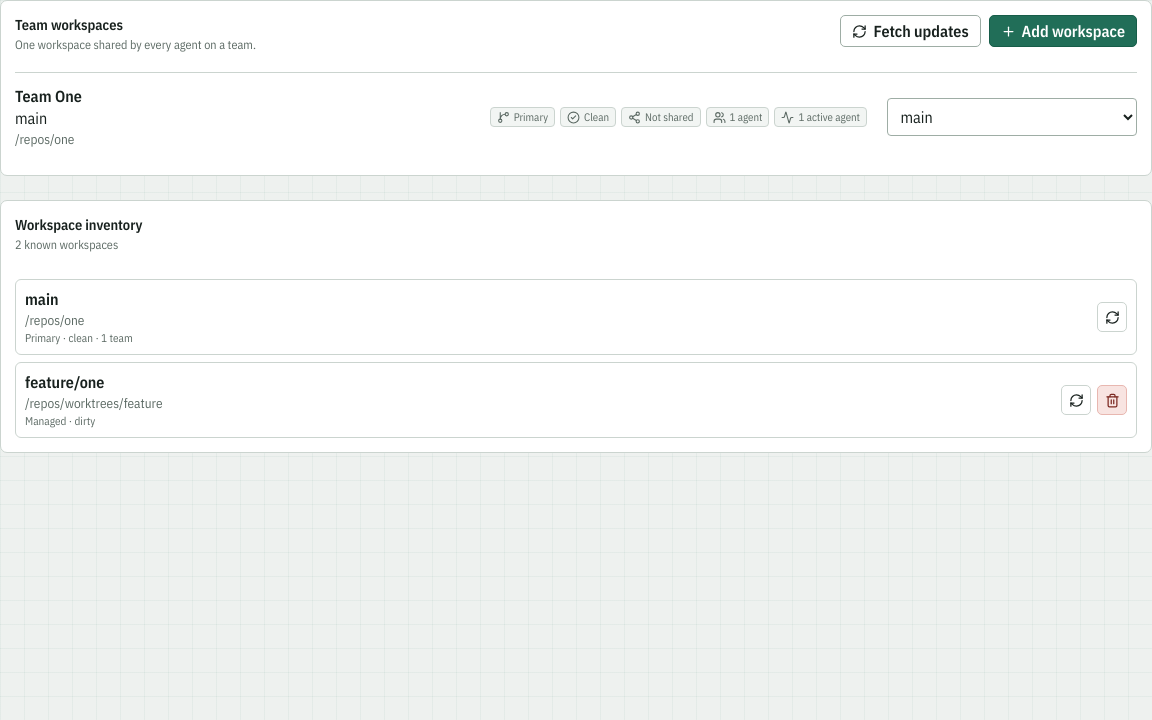
Test: CheckoutWorkspace › keeps a failed switch inside its impact dialog with the target intact
Select "feature/one" in the dropdown named "Workspace for Team One": (1012, 117) [888, 98, 1137, 136]
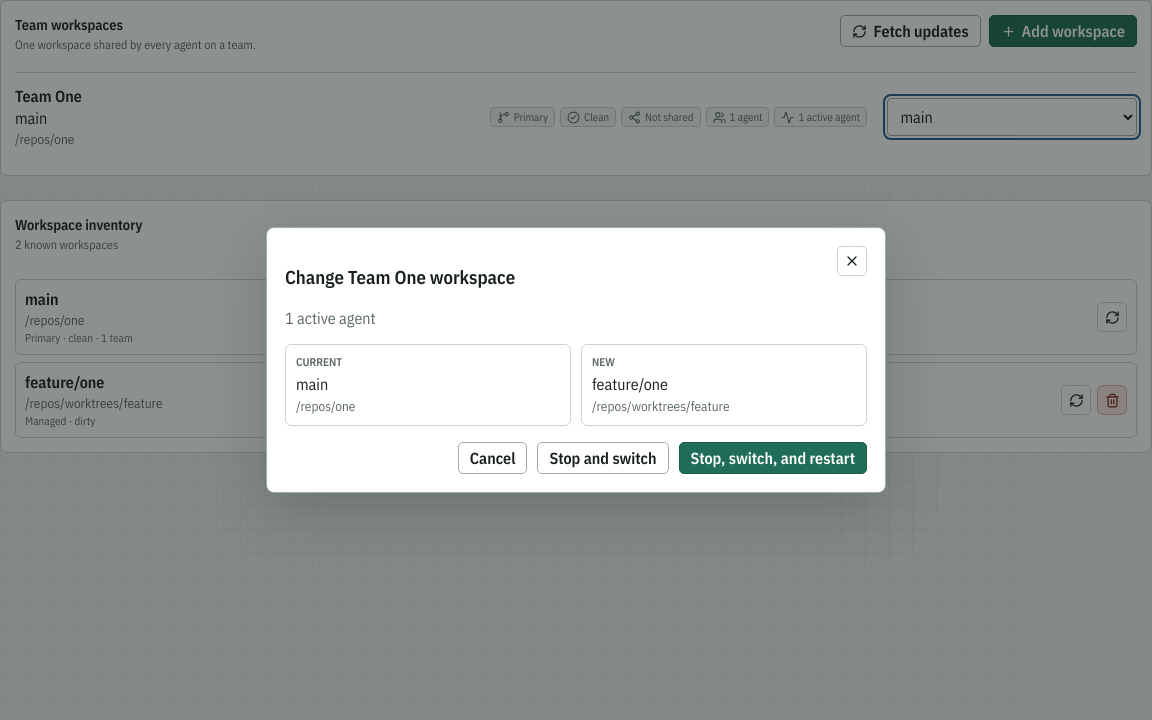
Click the button "Stop, switch, and restart": (773, 458) [678, 442, 867, 474]
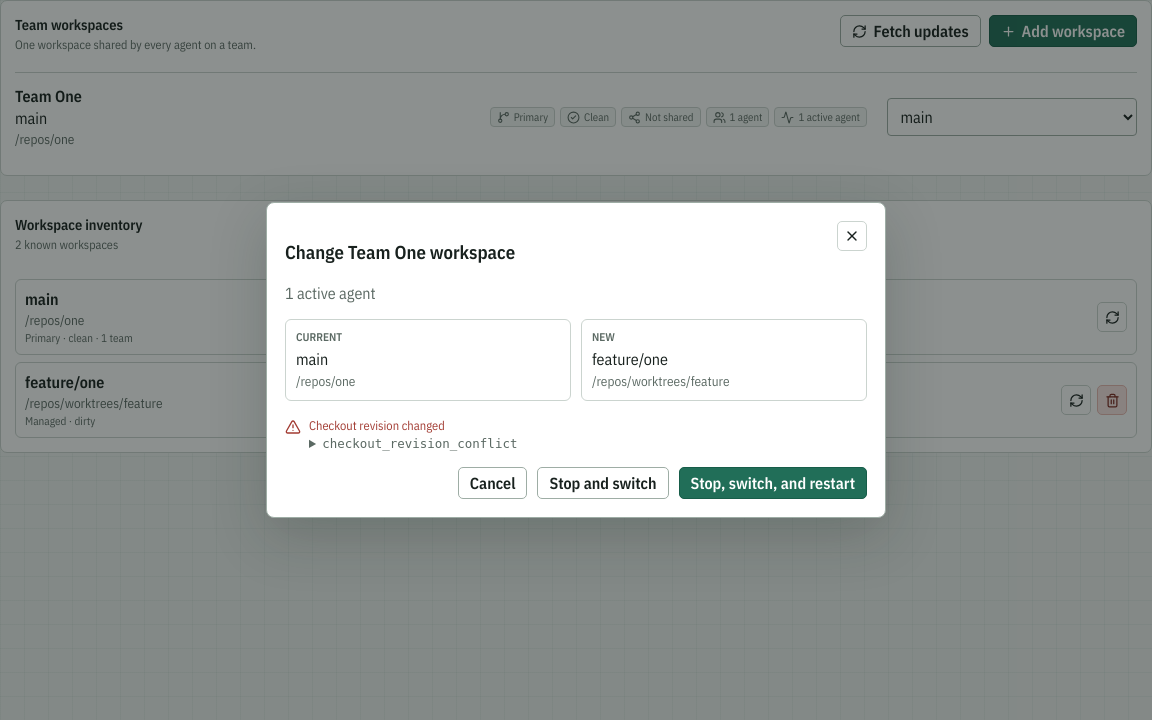
Expected: the dialog "Change Team One workspace" shows "feature/one", [592, 349, 668, 369]
Expected: the message shows "checkout_revision_conflict", [322, 436, 517, 451]
Expected: the number of messages is 1, [285, 417, 517, 451]
